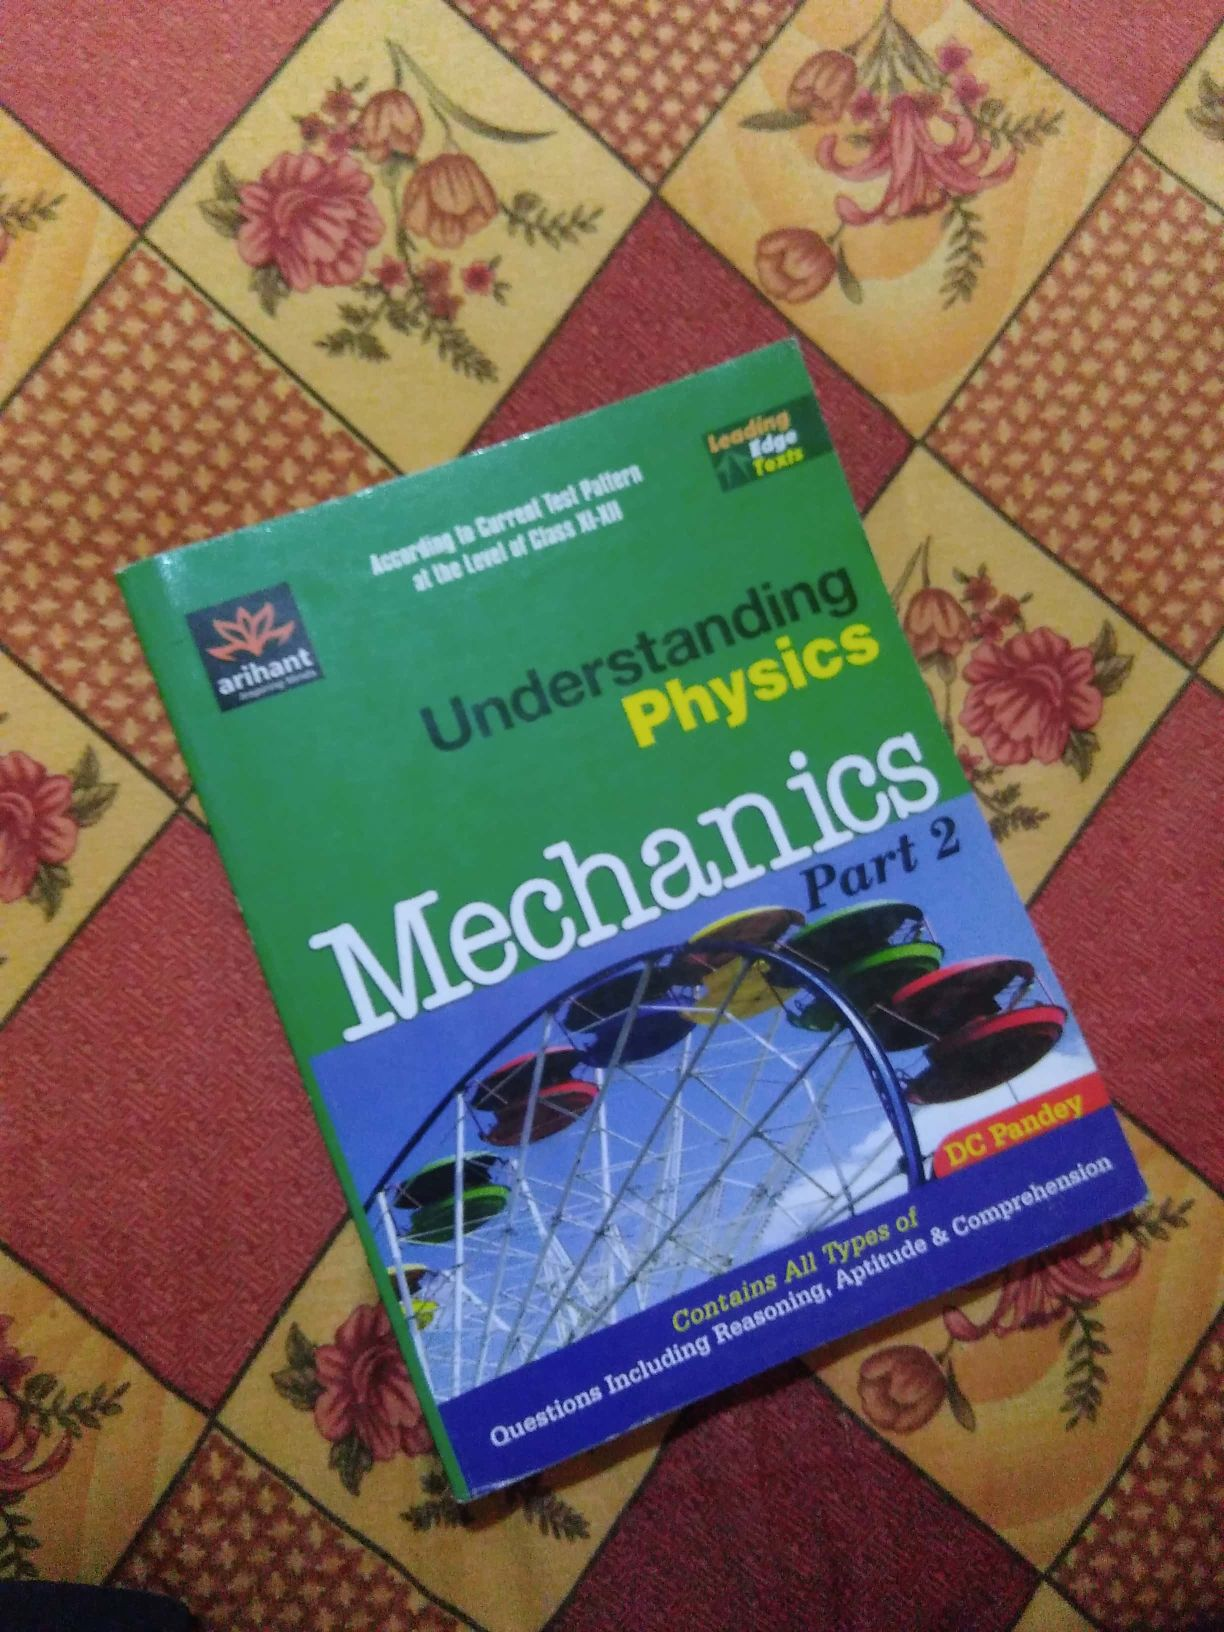mechanics: (134, 414, 1156, 1495)
